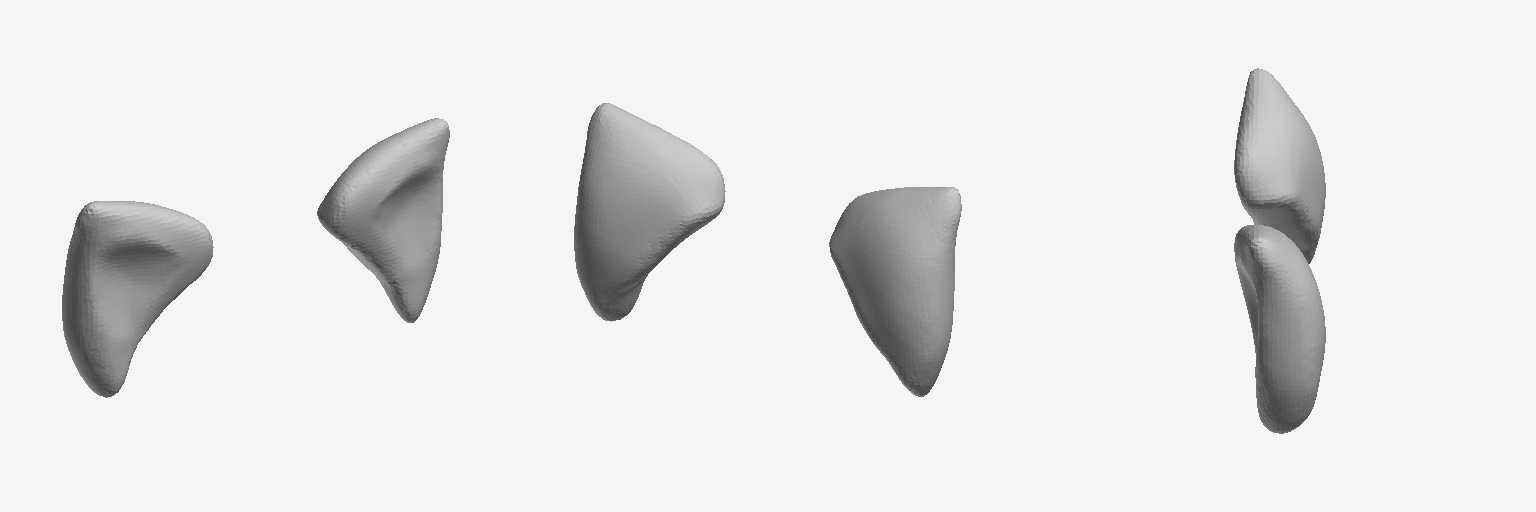
The model's file is SubTool-5-10389817.OBJ.
The picture shows the model from 3 angles: view 1: azimuth 30°, elevation 25°; view 2: azimuth 150°, elevation 25°; view 3: azimuth 270°, elevation 25°; orthographic projection.
Visible parts, largest first — view 1: ZBrush_defualt_group; view 2: ZBrush_defualt_group; view 3: ZBrush_defualt_group.
Part boxes in pixels (x1,y1,x2,y2): ZBrush_defualt_group: (62,118,449,397); ZBrush_defualt_group: (574,103,961,396); ZBrush_defualt_group: (1234,68,1325,433).
Size of the model in its own units: 2.83 by 1.5 by 0.6072.